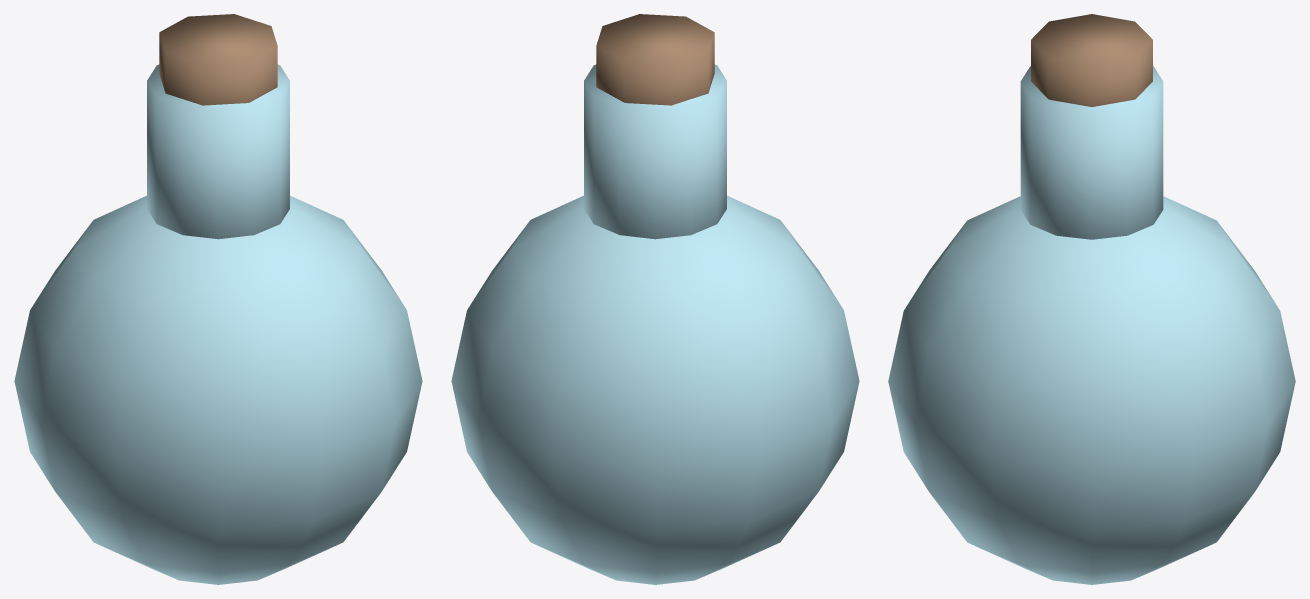
File: PocionMuerte.fbx
3 views of the same model, side by side, from view 1: azimuth 30°, elevation 25°; view 2: azimuth 150°, elevation 25°; view 3: azimuth 270°, elevation 25° (orthographic).
Visible parts, largest first — view 1: Potion_Glass, Potion_Neck, Potion_Cork; view 2: Potion_Glass, Potion_Neck, Potion_Cork; view 3: Potion_Glass, Potion_Neck, Potion_Cork.
Boxes of the visible parts, x1,y1,x2,y2 form: Potion_Glass: [14, 195, 422, 584]; Potion_Neck: [147, 64, 289, 239]; Potion_Cork: [159, 14, 277, 105]; Potion_Glass: [451, 195, 859, 584]; Potion_Neck: [584, 64, 726, 239]; Potion_Cork: [596, 14, 714, 105]; Potion_Glass: [888, 196, 1295, 584]; Potion_Neck: [1020, 66, 1163, 239]; Potion_Cork: [1031, 14, 1152, 106].
Size of the model in its own units: 80 by 114 by 80.
